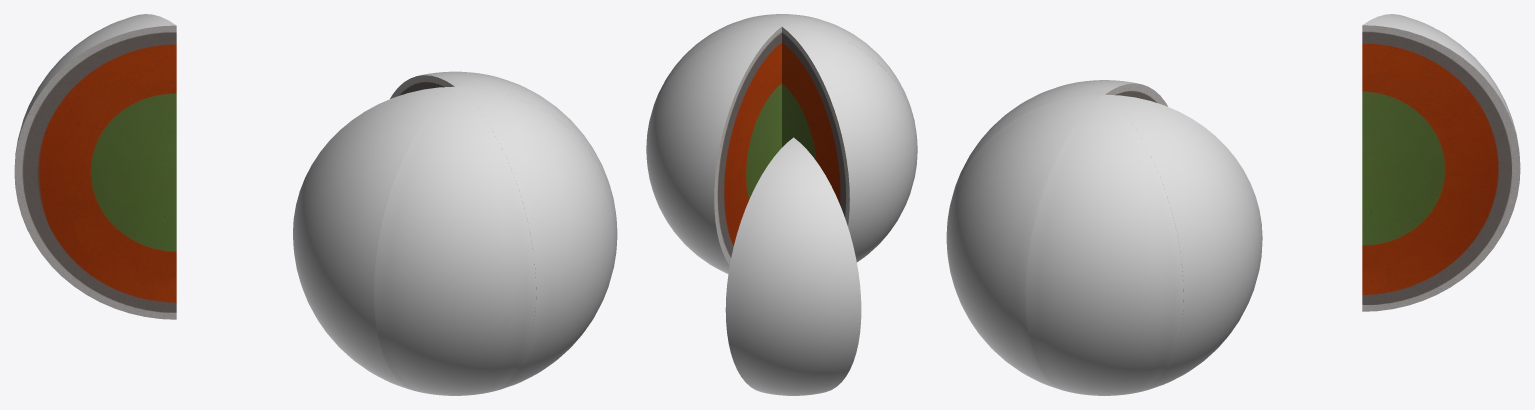
File: HearingBook_r7g.gltf
The picture shows the model from 3 angles, left to right: view 1: azimuth 30°, elevation 25°; view 2: azimuth 150°, elevation 25°; view 3: azimuth 270°, elevation 25°; orthographic projection. The views are drawn at different scales.
Visible parts, largest first — view 1: Slice 3, Slice 1-Mat, Slice 2-Shiny Shell, Slice 4, Slice 5, Slice 1-Shiny Shell, Slice 6-Mat; view 2: Slice 1-Shiny Shell, Slice 6-Shiny Shell, Slice 2-Shiny Shell, Slice 6-Mat, Slice 2-Mat, Slice 3, Slice 5, Slice 4; view 3: Slice 5, Slice 1-Mat, Slice 6-Shiny Shell, Slice 4, Slice 1-Shiny Shell, Slice 3, Slice 2-Mat.
Part boxes in pixels (bbox=[...]): Slice 3: bbox=[374, 87, 536, 395]; Slice 1-Mat: bbox=[14, 25, 176, 319]; Slice 2-Shiny Shell: bbox=[293, 86, 454, 390]; Slice 4: bbox=[455, 86, 617, 390]; Slice 5: bbox=[455, 75, 617, 245]; Slice 1-Shiny Shell: bbox=[14, 14, 176, 165]; Slice 6-Mat: bbox=[390, 75, 454, 98]; Slice 1-Shiny Shell: bbox=[725, 137, 861, 395]; Slice 6-Shiny Shell: bbox=[646, 26, 781, 273]; Slice 2-Shiny Shell: bbox=[782, 26, 917, 262]; Slice 6-Mat: bbox=[714, 27, 781, 265]; Slice 2-Mat: bbox=[782, 27, 849, 225]; Slice 3: bbox=[782, 17, 917, 159]; Slice 5: bbox=[647, 17, 781, 135]; Slice 4: bbox=[752, 14, 812, 26]; Slice 5: bbox=[1025, 95, 1183, 395]; Slice 1-Mat: bbox=[1362, 25, 1520, 311]; Slice 6-Shiny Shell: bbox=[1105, 94, 1262, 391]; Slice 4: bbox=[946, 94, 1103, 390]; Slice 1-Shiny Shell: bbox=[1362, 14, 1519, 152]; Slice 3: bbox=[947, 83, 1103, 221]; Slice 2-Mat: bbox=[1105, 83, 1167, 106].
Bounding box in the file's own units: 290 × 200 × 363.
2 materials, 1 textured.
